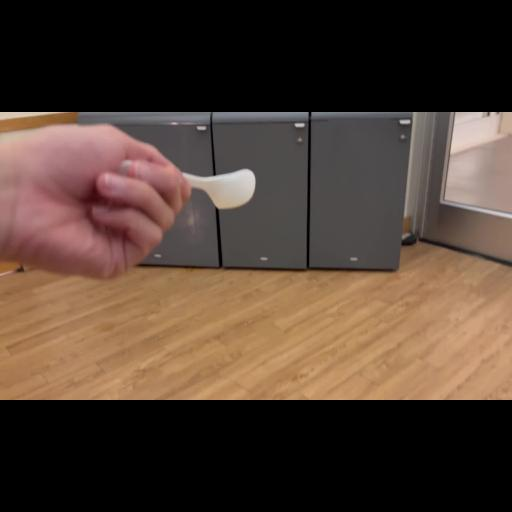utensil: (122, 152, 276, 220)
